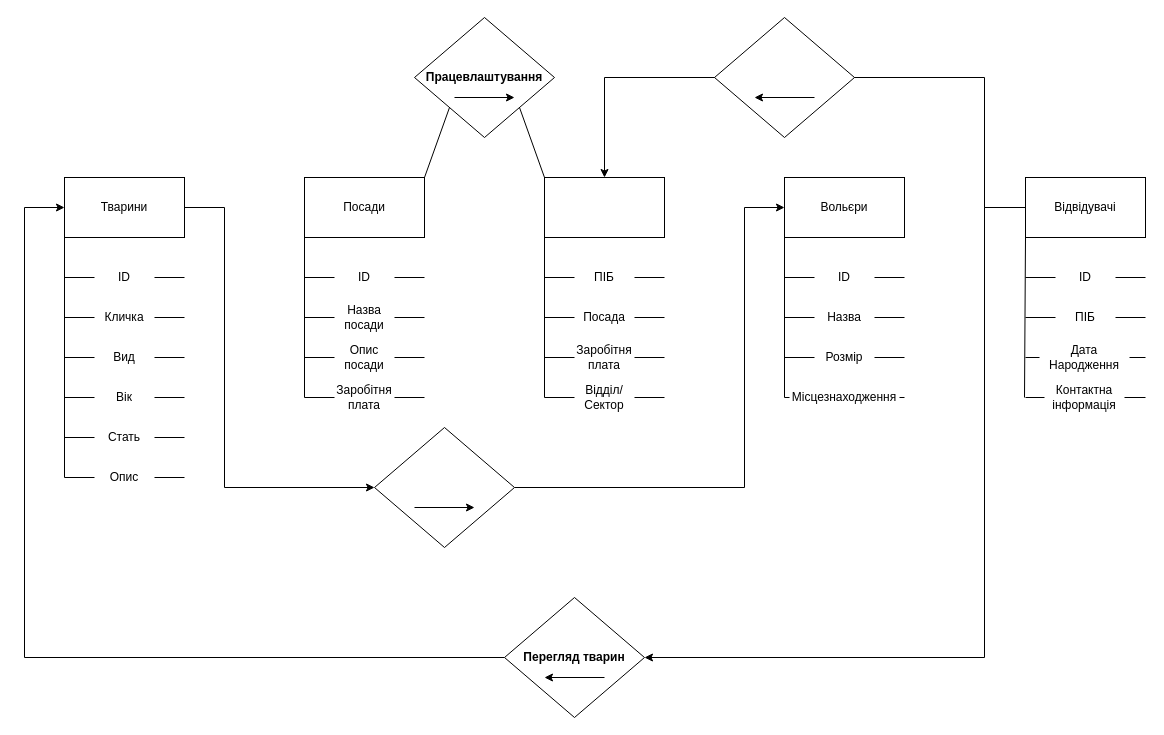
Some shapes in this 1164 by 735 pixel diagram are drawn without their labels. Here are the shapes that lost their labels. From the top down, the centre of each, then its label:
At (x=784, y=77): "Звернення за допомогою".
At (x=604, y=207): "Персонал".
At (x=444, y=487): "Мешкає".
